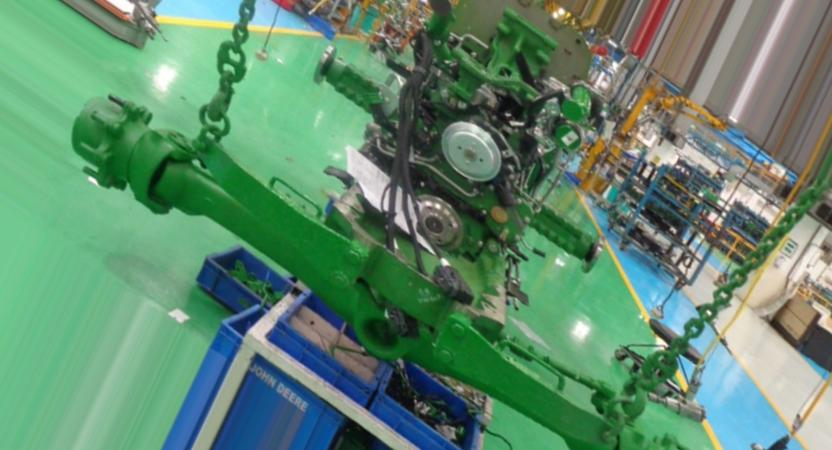engine: (68, 0, 707, 450)
